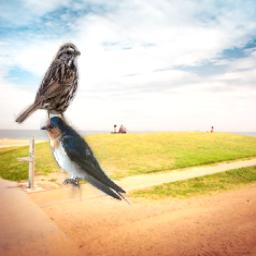Sparrow: (14, 41, 82, 134)
Swallow: (40, 117, 132, 207)
